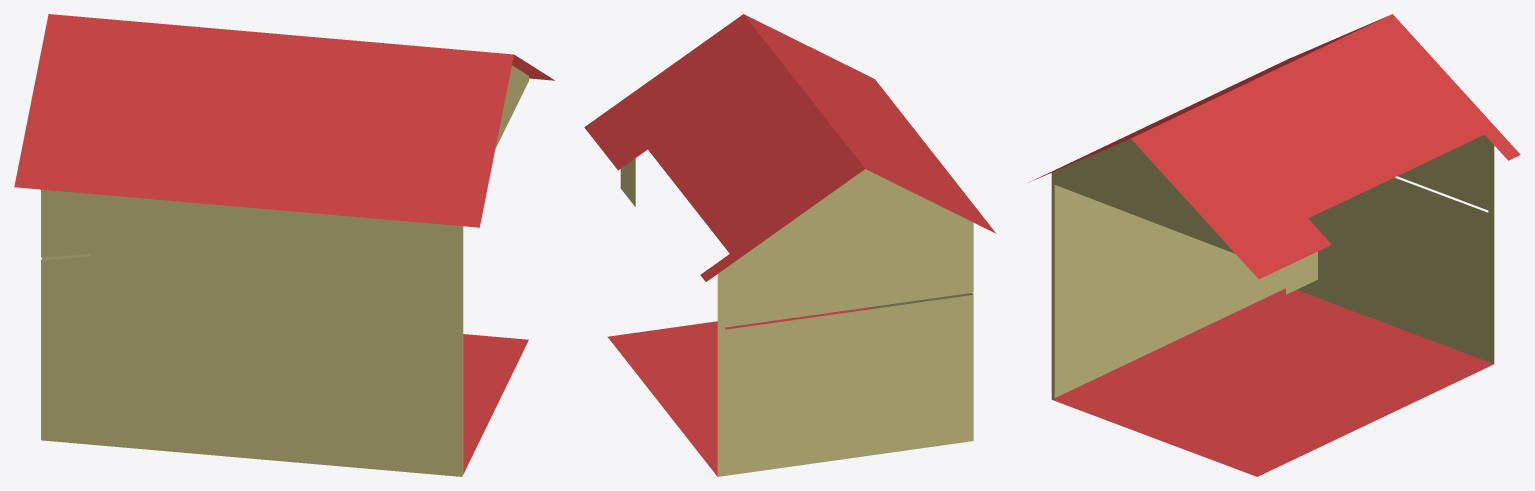
3 views of the same model, side by side, from view 1: azimuth 30°, elevation 25°; view 2: azimuth 150°, elevation 25°; view 3: azimuth 270°, elevation 25° (orthographic). The views are drawn at different scales.
Size of the model in its own units: 20.09 by 19.81 by 13.3.
